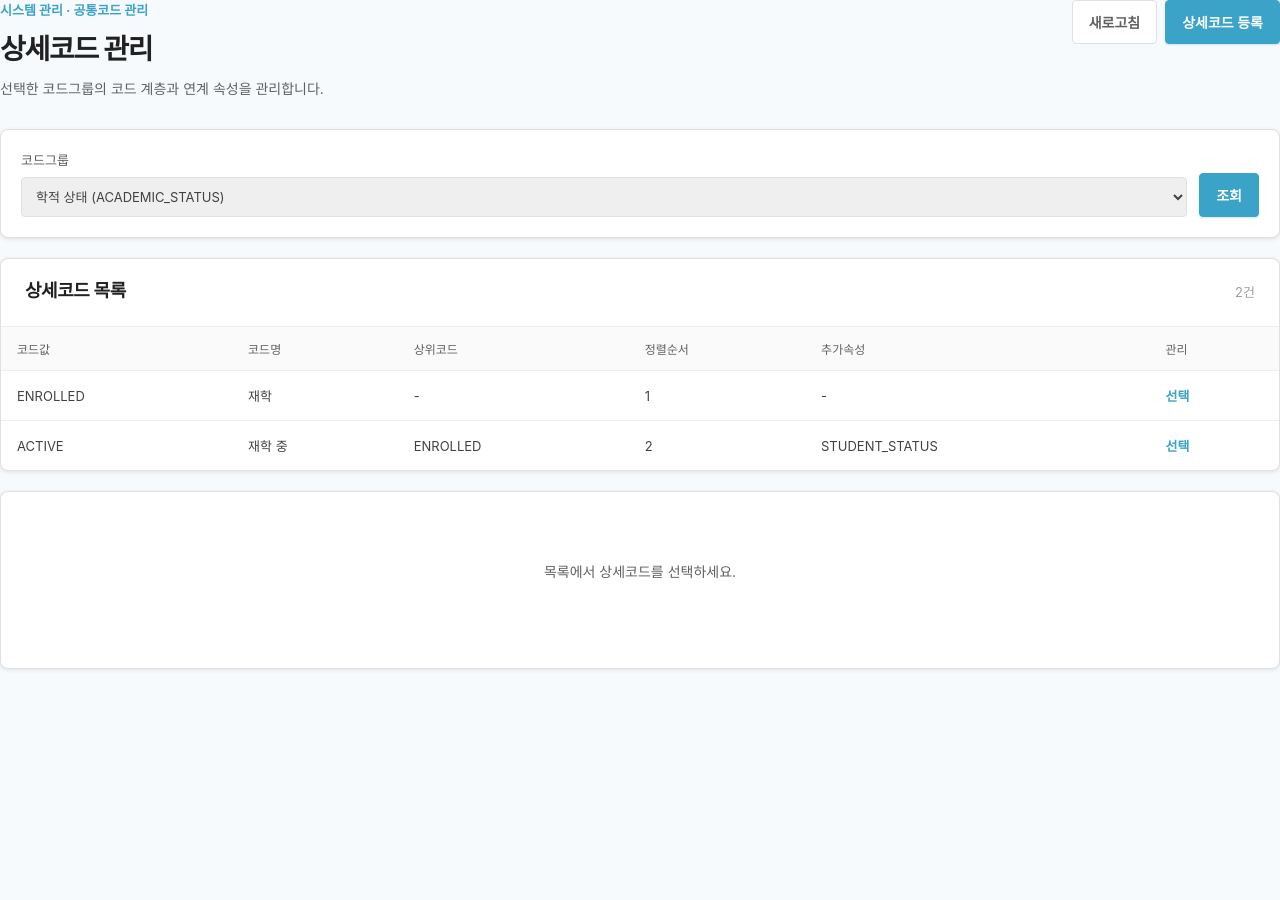
DetailCodeManagementPage › keeps the modal open and shows validation feedback when code name is missing
The image size is (1280, 900).
Expected: the text "재학 중" is shown, [232,420,398,470]
Click the button "상세코드 등록". click: (1223, 22)
box: [1165,0,1279,44]
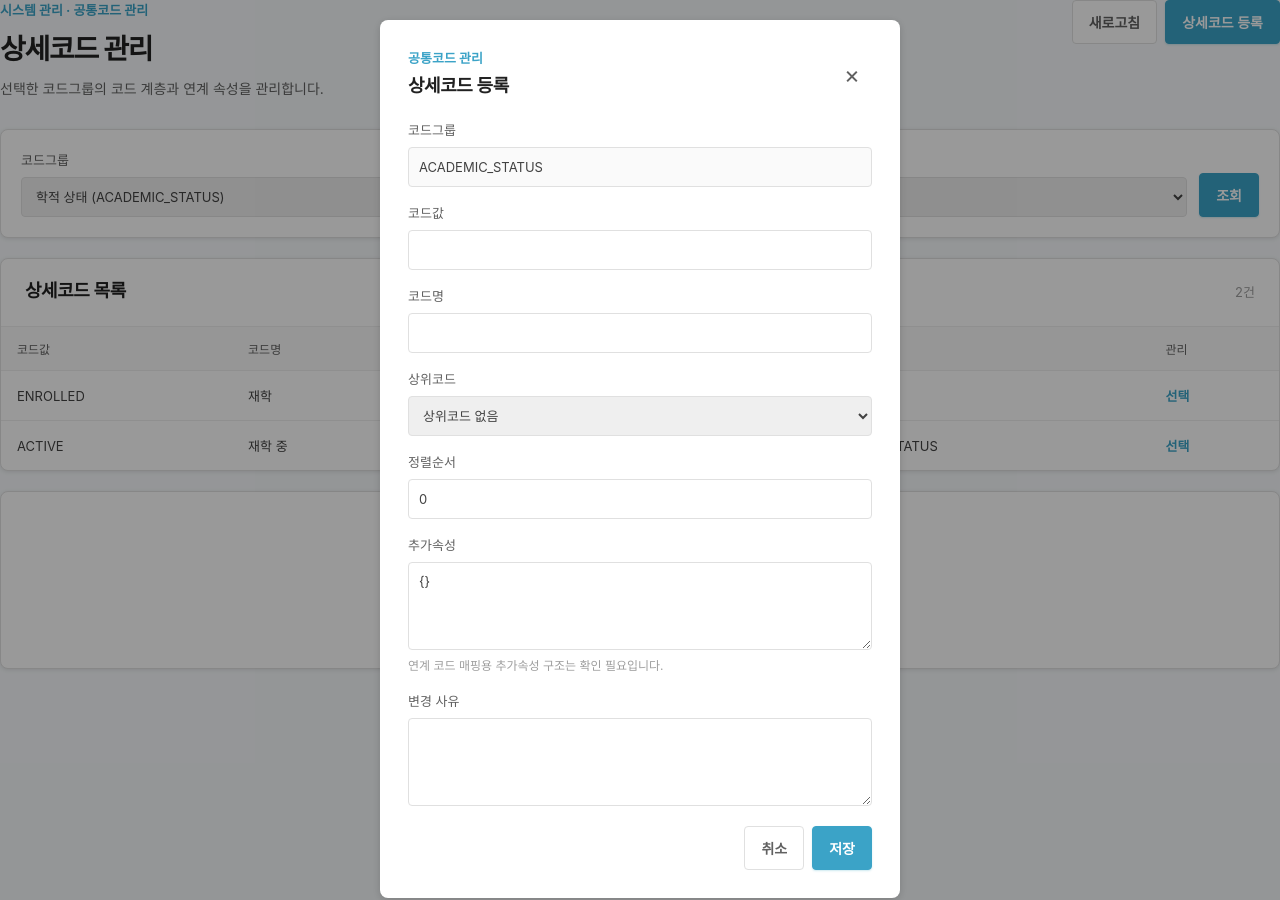
Type "LEAVE" into the field labelled "코드값". click: (640, 250)
box: [408,230,872,270]
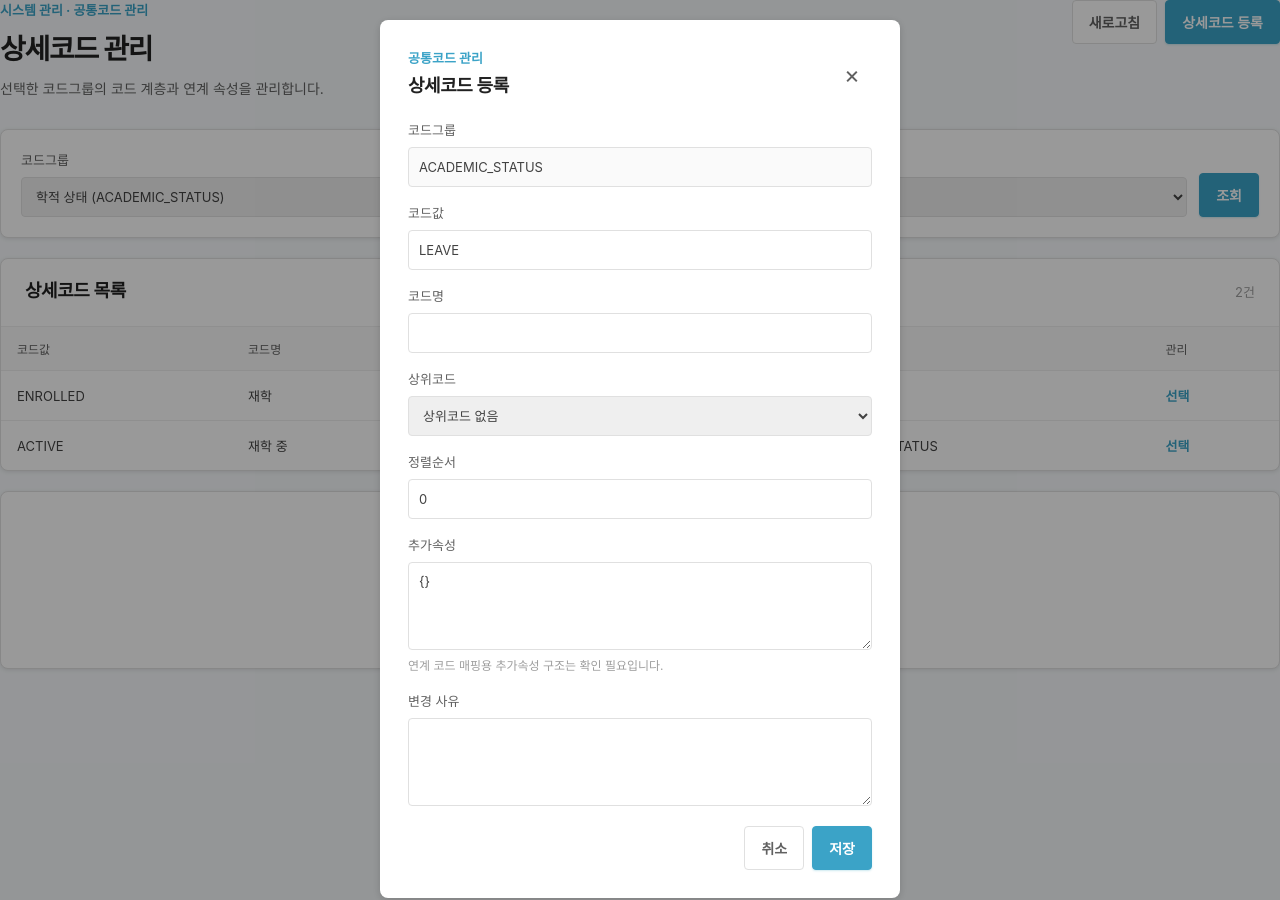
Click the button "저장". click: (842, 848)
box: [812,826,872,870]
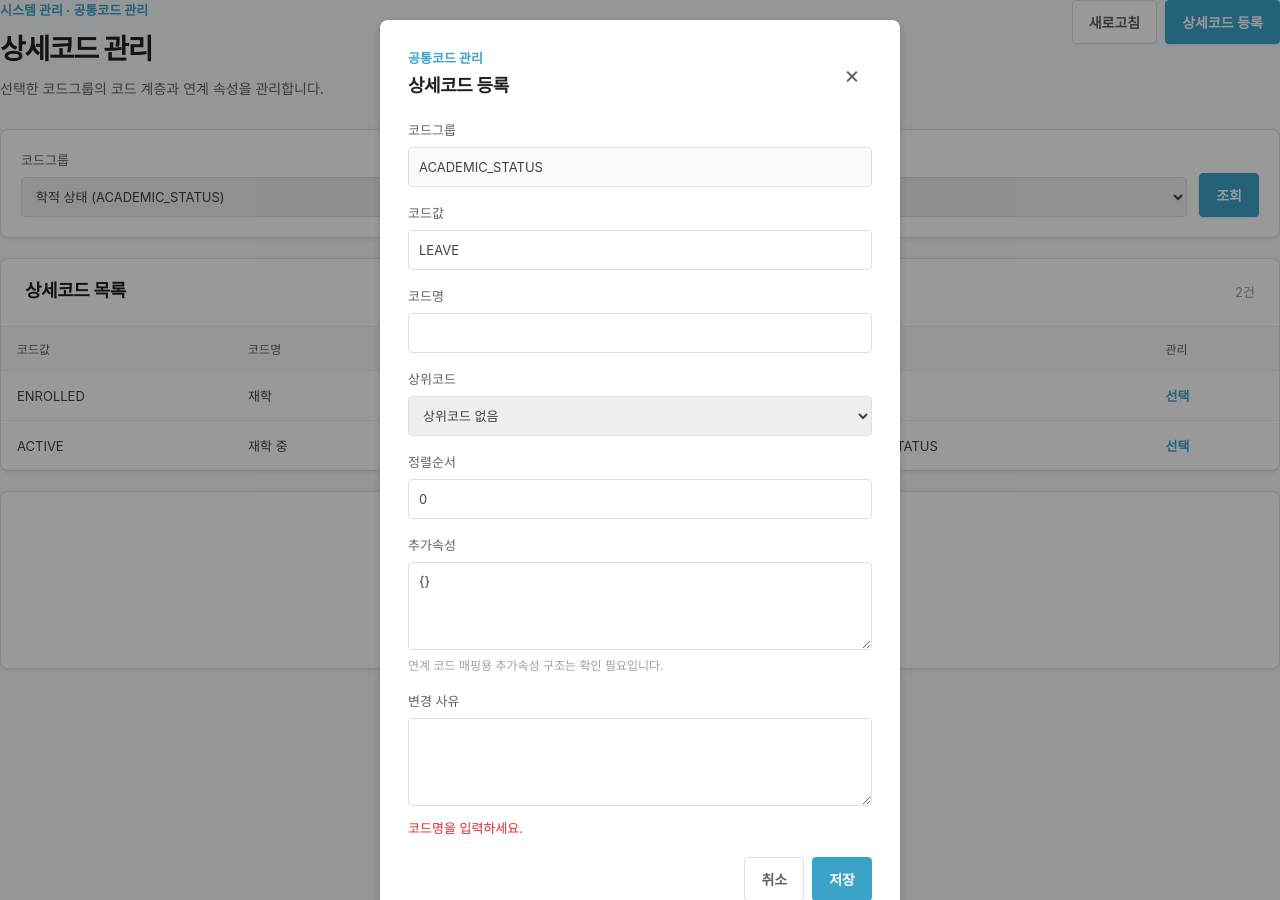
Now the heading "상세코드 등록" is shown, box [408,72,509,100]
Now the text "코드명을 입력하세요." is shown, box [408,820,523,836]
